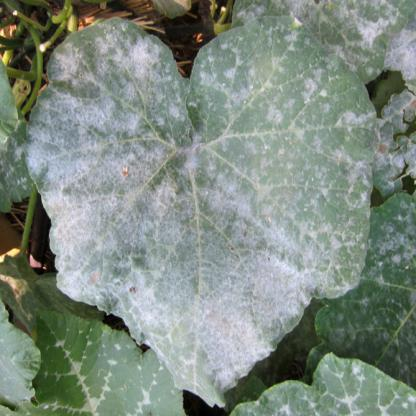Squash Powdery mildew leaf: (26, 16, 372, 404)
